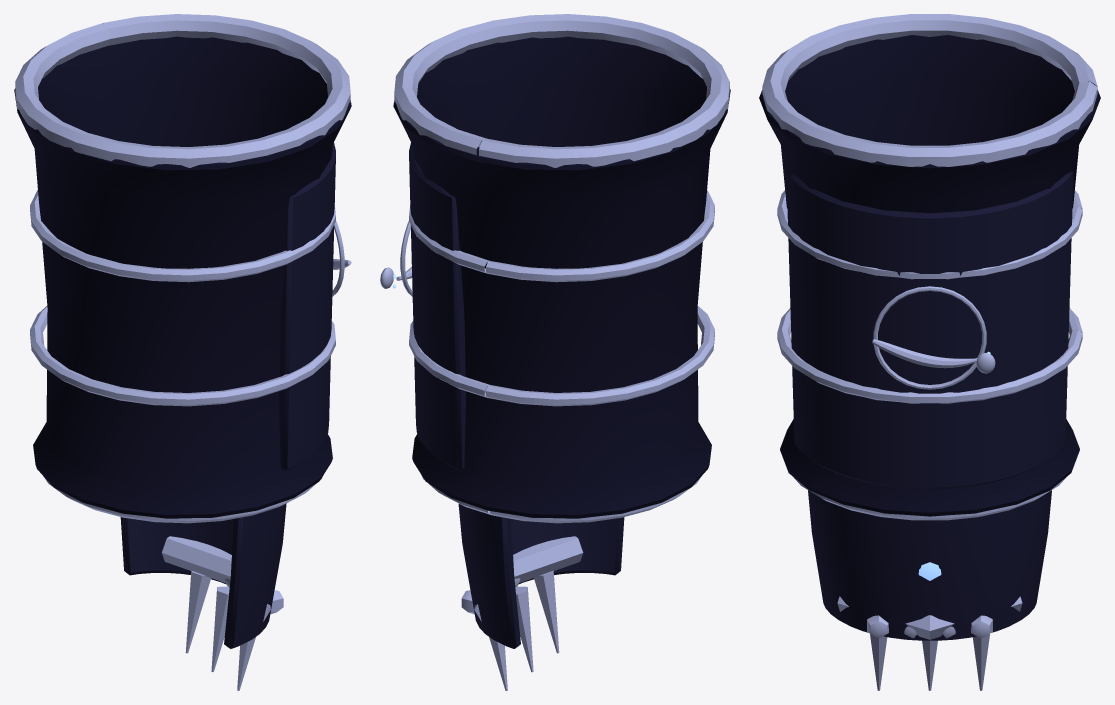
File: asc_starless_stalker_gloves.glb
3 views of the same model, side by side, from view 1: azimuth 30°, elevation 25°; view 2: azimuth 150°, elevation 25°; view 3: azimuth 270°, elevation 25° (orthographic).
Visible parts, largest first — view 1: asc_starless_stalker_gloves, AT_hand_L; view 2: asc_starless_stalker_gloves, AT_hand_L; view 3: asc_starless_stalker_gloves, AT_hand_L.
Boxes of the visible parts, left/top/right/bottom form: asc_starless_stalker_gloves: left=14, top=14, right=351, bottom=523; AT_hand_L: left=120, top=503, right=286, bottom=690; asc_starless_stalker_gloves: left=380, top=14, right=730, bottom=523; AT_hand_L: left=458, top=504, right=624, bottom=690; asc_starless_stalker_gloves: left=759, top=14, right=1100, bottom=520; AT_hand_L: left=808, top=490, right=1051, bottom=690.
Size of the model in its own units: 0.2009 by 0.385 by 0.2004.
